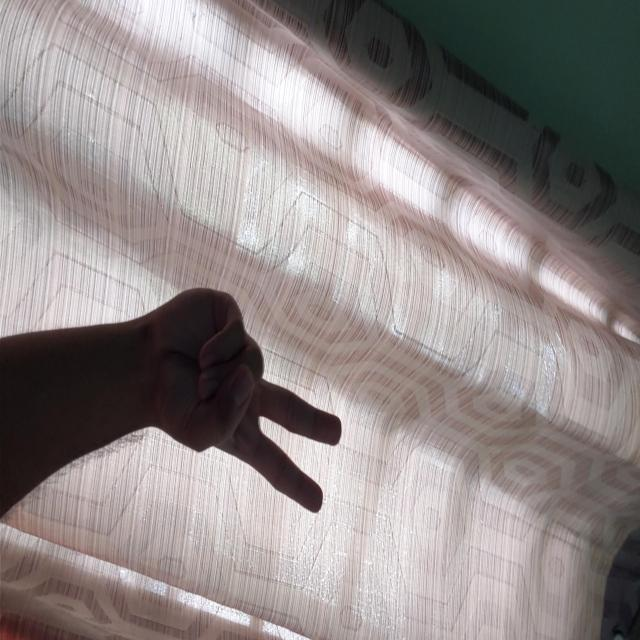V: (286, 298, 517, 487)
